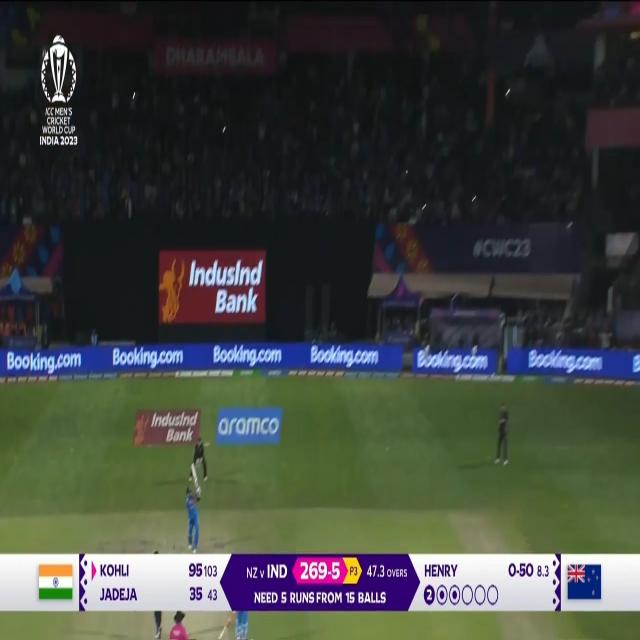ball: (401, 162, 412, 184)
